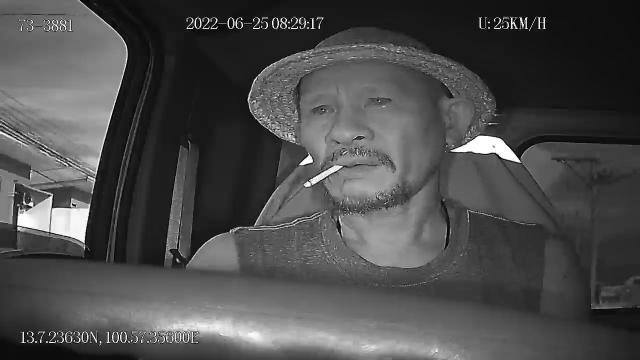SafeDriving: (360, 86, 400, 114), (306, 94, 341, 119)
Smoking: (302, 163, 343, 189)
